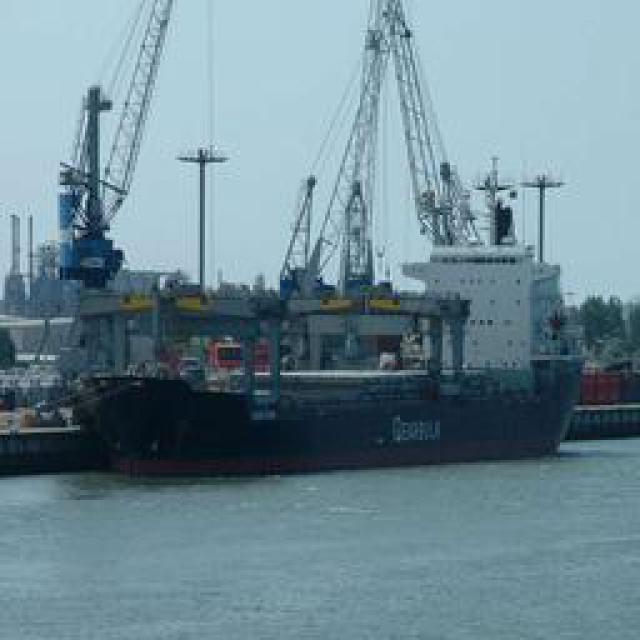Ship: (33, 1, 594, 474)
